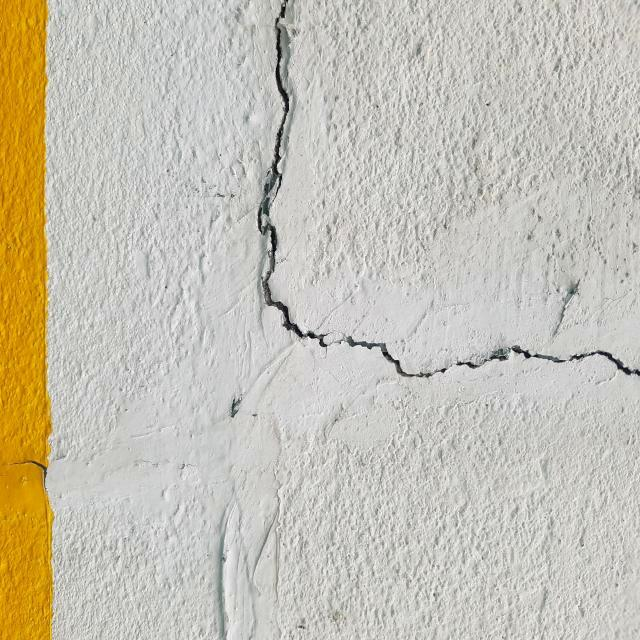SurfaceCrack: (216, 3, 637, 419)
